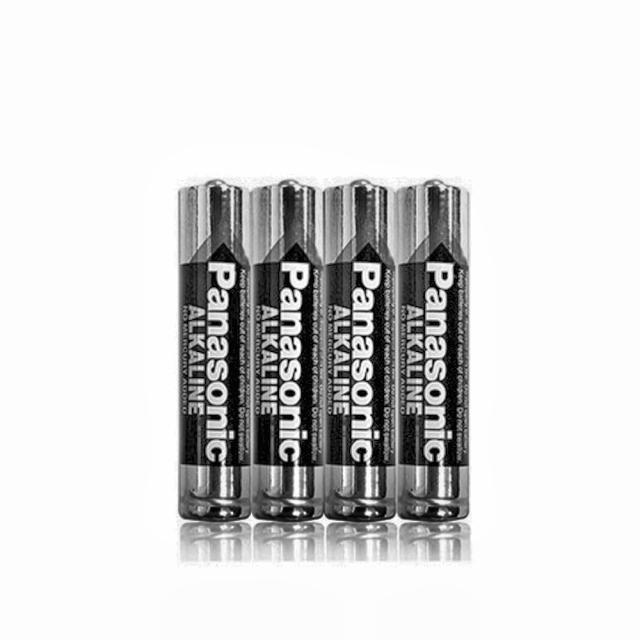drycell: (174, 179, 252, 524), (249, 176, 324, 529)
